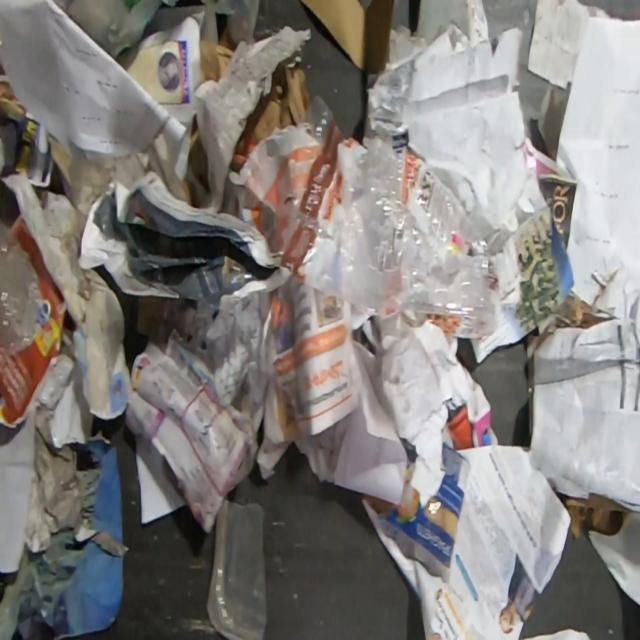cardboard: (363, 0, 548, 257), (296, 0, 395, 75), (242, 63, 311, 145), (563, 492, 634, 540), (200, 21, 239, 83)
rigid_plastic: (205, 496, 269, 640), (0, 213, 44, 357)
soft_plastic: (267, 92, 500, 340), (200, 0, 261, 44)
